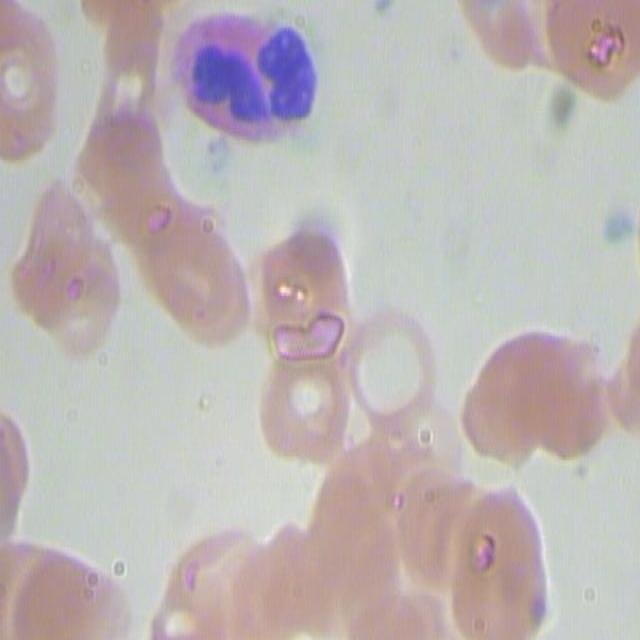RBC: (413, 475, 552, 639), (461, 322, 613, 470), (239, 210, 360, 375), (7, 188, 115, 358), (140, 195, 252, 351), (74, 82, 170, 245), (331, 432, 439, 570), (338, 302, 447, 434), (9, 547, 162, 640), (257, 328, 349, 471), (314, 514, 418, 640), (202, 532, 295, 640), (0, 0, 59, 162), (94, 2, 175, 119), (555, 2, 640, 102), (7, 412, 48, 579)
WBC: (179, 12, 323, 145)
platelets: (600, 209, 640, 263)
